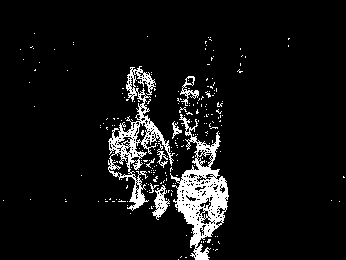person: (175, 147, 228, 257), (110, 121, 148, 211), (138, 130, 173, 221), (196, 79, 223, 159), (126, 64, 157, 125), (176, 74, 198, 151)
